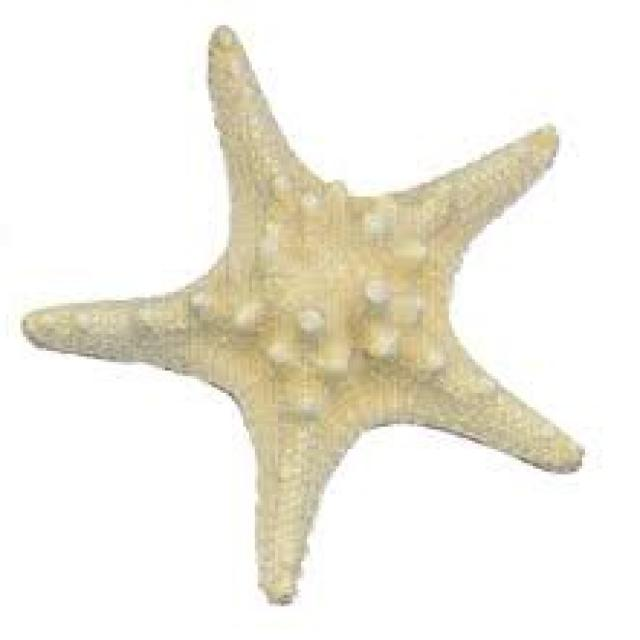starfish: (23, 25, 579, 601)
